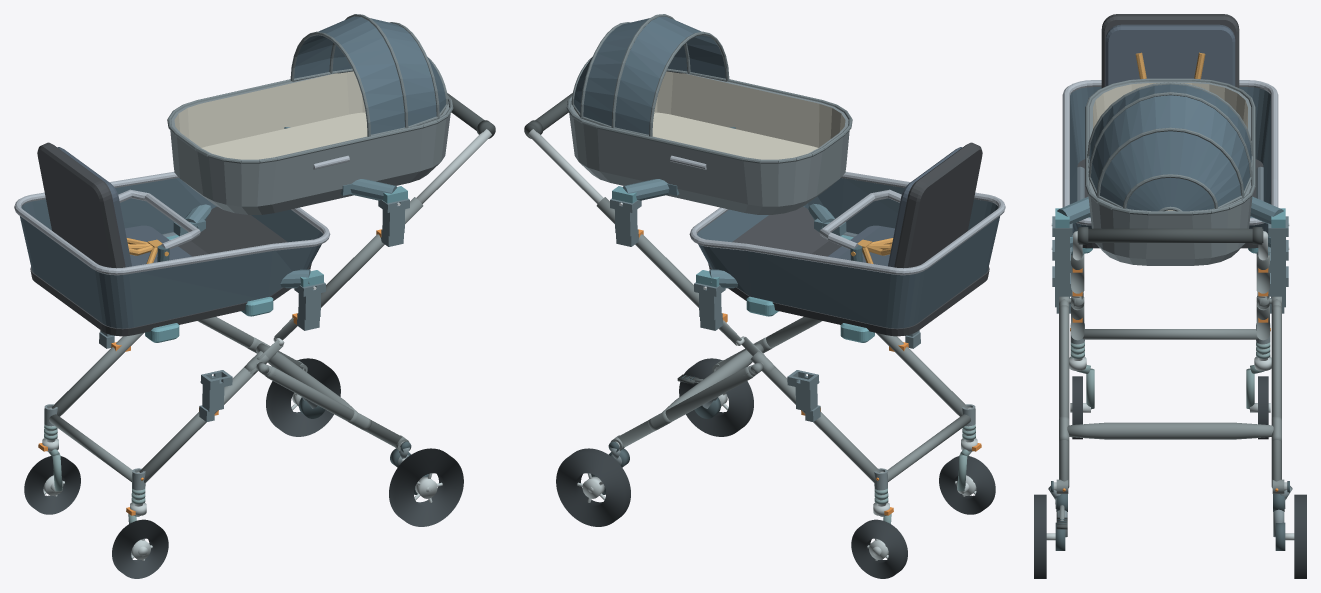
The model's file is D21_w550_state1_wheel_S.glb.
3 views of the same model, side by side, from view 1: azimuth 30°, elevation 25°; view 2: azimuth 150°, elevation 25°; view 3: azimuth 270°, elevation 25° (orthographic). The views are drawn at different scales.
Parts seen in each view (by area): view 1: D21_Upper, D21_Lower, RL_tire.002, RR_tire.002, FL_tire.002, FR_tire.002, V46_rear_leg_-1.003, main_lower_-1.003, main_lower_1.003, main_upper_-1.003, D21_Lower_Mount_M, Universal_Cabin_Receiver_L_-1 (+7 smaller); view 2: D21_Upper, D21_Lower, RR_tire.002, RL_tire.002, FR_tire.002, FL_tire.002, V46_rear_leg_1.003, main_lower_1.003, main_lower_-1.003, main_upper_1.003, D21_Lower_Mount_M, Universal_Cabin_Receiver_L_1 (+7 smaller); view 3: D21_Upper, D21_Lower, V46_rearbar.003, round_handle.002, front_fixed_round_tube.002, V46_rear_leg_1.003, V46_rear_leg_-1.003, D21_Upper_Mount_H, RL_tire.002, RR_tire.002, Universal_Cabin_Receiver_H_1, Universal_Cabin_Receiver_H_-1 (+8 smaller).
Boxes of the visible parts, x1,y1,x2,y2 form: D21_Upper: [167, 14, 453, 214]; D21_Lower: [14, 142, 330, 342]; RL_tire.002: [389, 448, 463, 526]; RR_tire.002: [266, 358, 340, 436]; FL_tire.002: [112, 519, 168, 578]; FR_tire.002: [24, 456, 80, 514]; V46_rear_leg_-1.003: [265, 366, 401, 447]; main_lower_-1.003: [139, 367, 256, 483]; main_lower_1.003: [51, 333, 143, 416]; main_upper_-1.003: [321, 197, 423, 307]; D21_Lower_Mount_M: [173, 204, 323, 289]; Universal_Cabin_Receiver_L_-1: [199, 370, 232, 421]; D21_Upper: [566, 14, 852, 214]; D21_Lower: [689, 142, 1005, 342]; RR_tire.002: [556, 448, 630, 526]; RL_tire.002: [679, 358, 753, 436]; FR_tire.002: [851, 519, 907, 578]; FL_tire.002: [939, 456, 995, 514]; V46_rear_leg_1.003: [618, 366, 754, 447]; main_lower_1.003: [763, 367, 880, 483]; main_lower_-1.003: [876, 333, 968, 416]; main_upper_1.003: [596, 197, 698, 307]; D21_Lower_Mount_M: [696, 203, 846, 289]; Universal_Cabin_Receiver_L_1: [787, 370, 820, 421]; D21_Upper: [1085, 78, 1255, 265]; D21_Lower: [1062, 14, 1278, 253]; V46_rearbar.003: [1067, 422, 1273, 439]; round_handle.002: [1077, 228, 1263, 242]; front_fixed_round_tube.002: [1082, 329, 1258, 339]; V46_rear_leg_1.003: [1271, 305, 1281, 488]; V46_rear_leg_-1.003: [1059, 305, 1069, 488]; D21_Upper_Mount_H: [1051, 196, 1289, 227]; RL_tire.002: [1034, 494, 1046, 578]; RR_tire.002: [1294, 494, 1306, 578]; Universal_Cabin_Receiver_H_1: [1268, 216, 1288, 272]; Universal_Cabin_Receiver_H_-1: [1052, 216, 1072, 272].
Bounding box in the file's own units: 1.15 × 1.27 × 0.6471.
